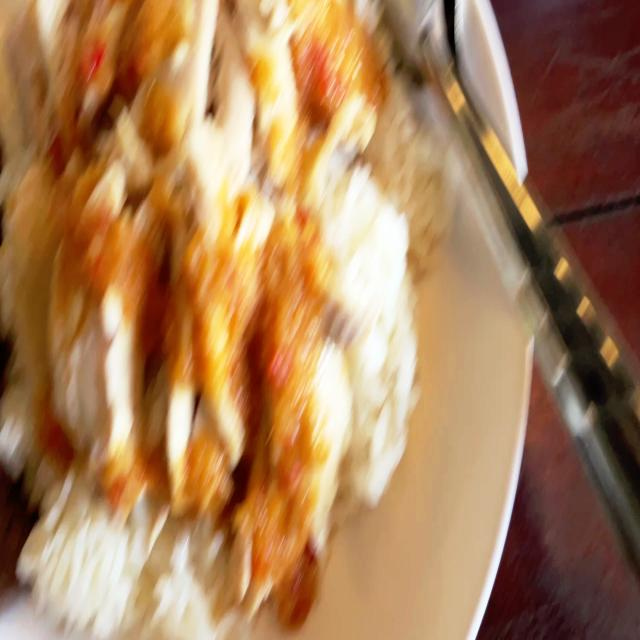boiled_chicken: (38, 0, 351, 579)
boiled_chicken_blood_jelly: (0, 310, 41, 595)
chicken_rice: (0, 0, 457, 640)
